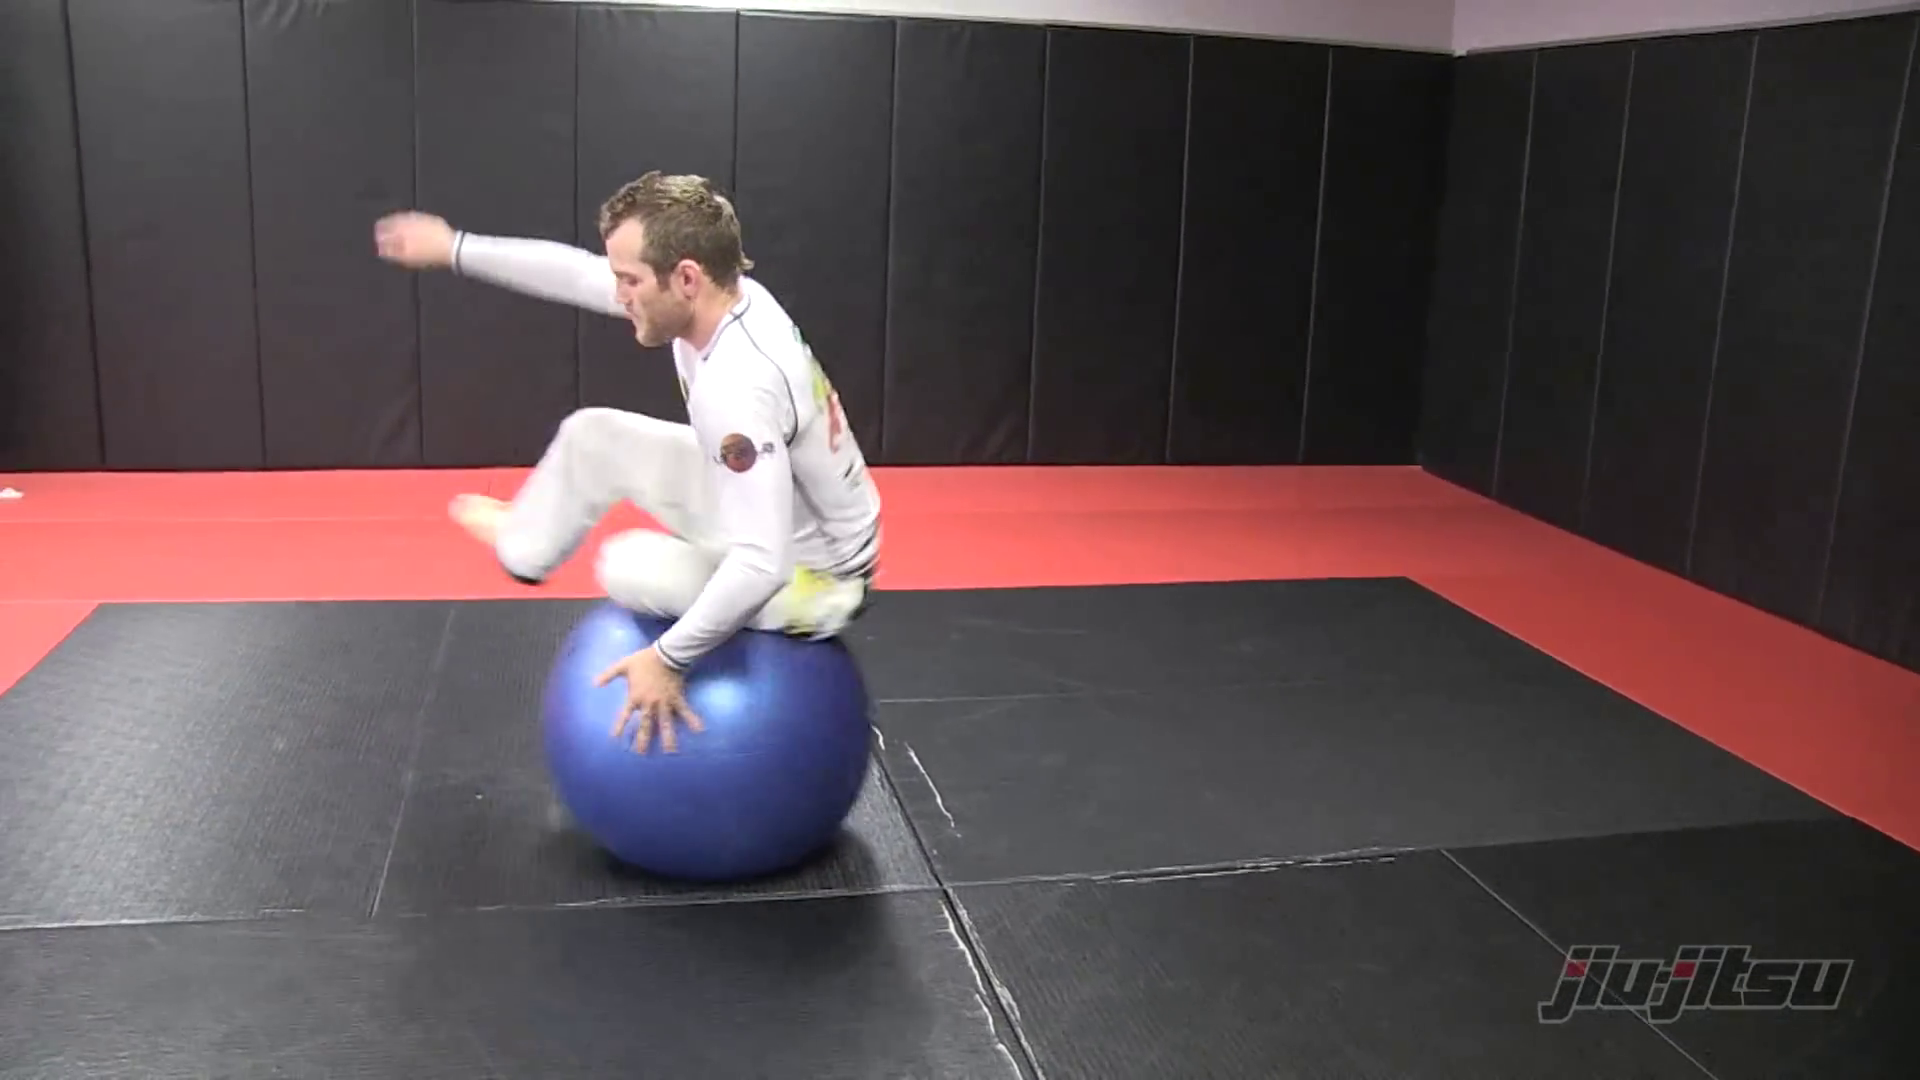yogaball: (530, 578, 897, 905)
